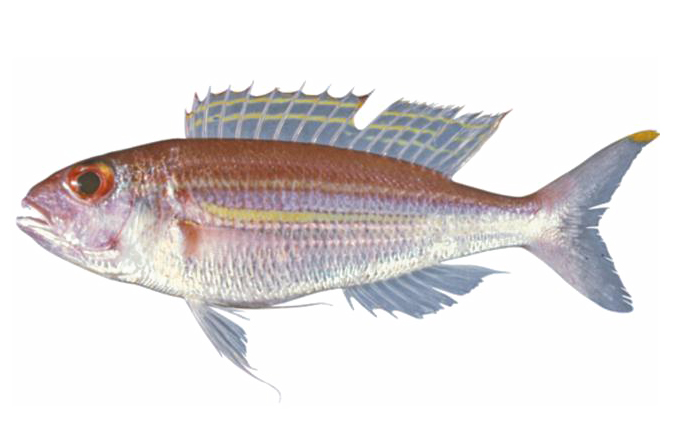Ikan Kerisi: (19, 126, 610, 318)
